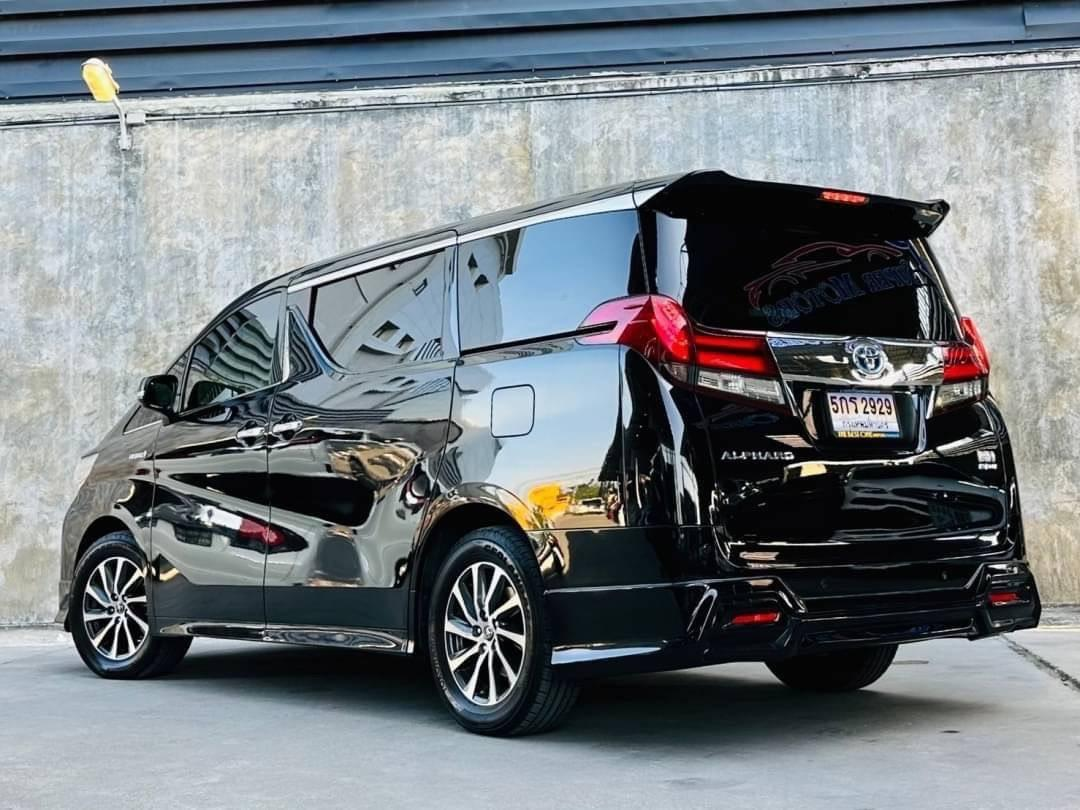license-plate: (824, 389, 905, 441)
